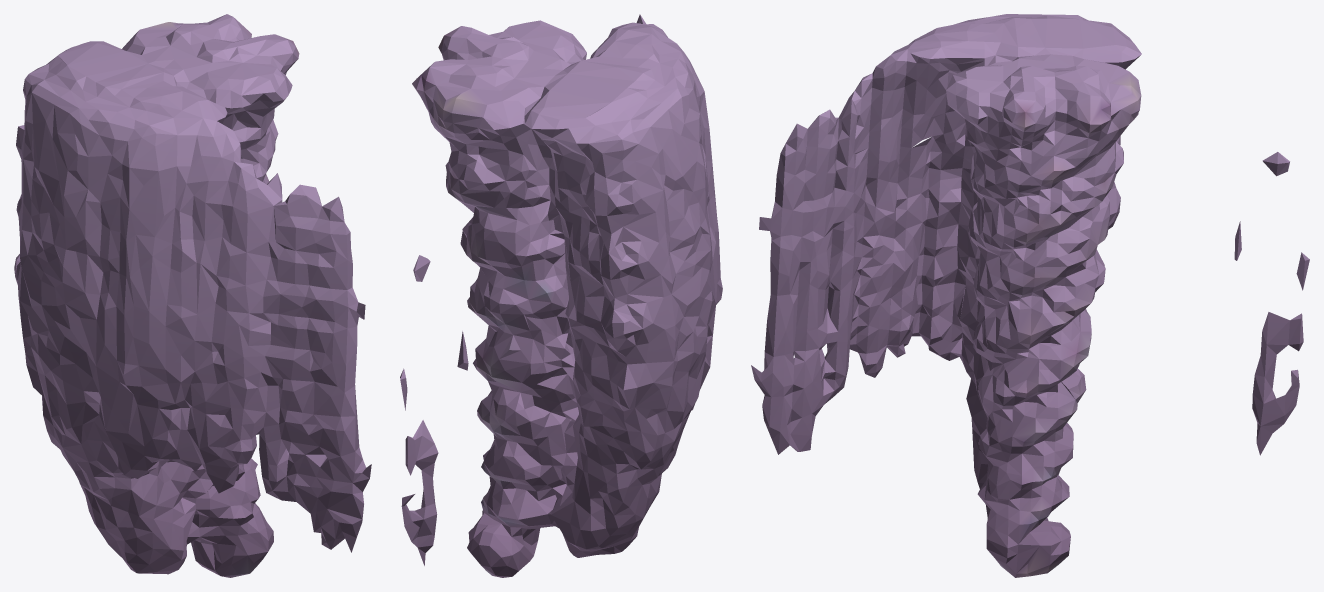
File: spiral_tree.glb
The picture shows the model from 3 angles, left to right: view 1: azimuth 30°, elevation 25°; view 2: azimuth 150°, elevation 25°; view 3: azimuth 270°, elevation 25°; orthographic projection. The views are drawn at different scales.
Visible parts, largest first — view 1: world; view 2: world; view 3: world.
Part boxes in pixels (x1=…): world: x1=14, y1=14, x2=371, y2=577; world: x1=400, y1=14, x2=722, y2=577; world: x1=751, y1=14, x2=1309, y2=577.
Size of the model in its own units: 1.54 by 3 by 3.05.
